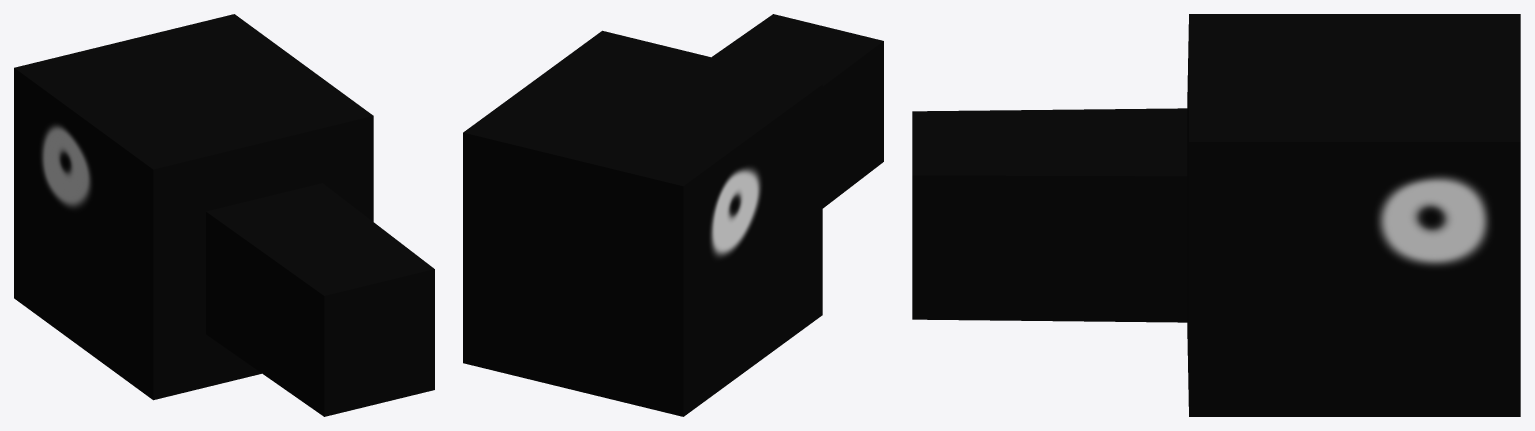
File: enemy.obj
The picture shows the model from 3 angles, left to right: view 1: azimuth 30°, elevation 25°; view 2: azimuth 150°, elevation 25°; view 3: azimuth 270°, elevation 25°; orthographic projection. The views are drawn at different scales.
Visible parts, largest first — view 1: Cube.001; view 2: Cube.001; view 3: Cube.001.
Part boxes in pixels (left/top/right/bottom): Cube.001: left=14, top=14, right=434, bottom=416; Cube.001: left=463, top=14, right=883, bottom=416; Cube.001: left=912, top=14, right=1520, bottom=416.
Size of the model in its own units: 2 by 2 by 4.01.
Materials: 1 (1 with a texture image).
